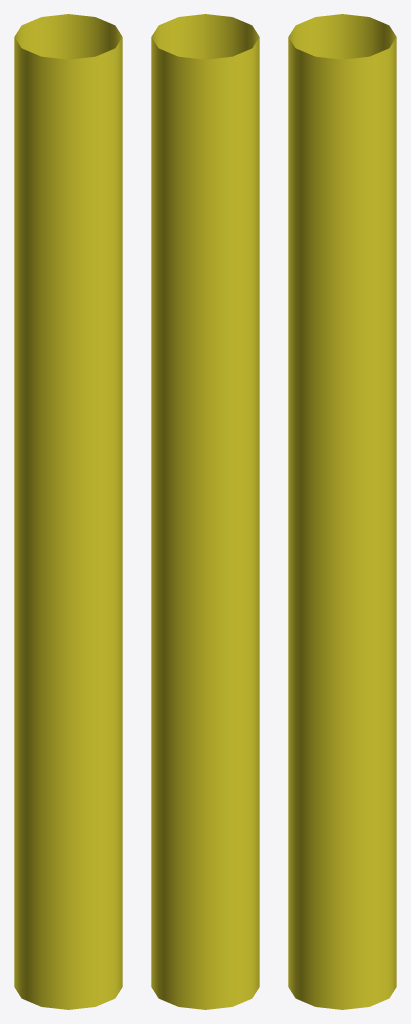
File: Fence.fbx
The picture shows the model from 3 angles, left to right: view 1: azimuth 30°, elevation 25°; view 2: azimuth 150°, elevation 25°; view 3: azimuth 330°, elevation 25°; orthographic projection.
Parts seen in each view (by area): view 1: Fence; view 2: Fence; view 3: Fence.
Part boxes in pixels (x1,y1,x2,y2): Fence: (14, 14, 122, 1009); Fence: (151, 14, 259, 1009); Fence: (288, 14, 396, 1009).
Size of the model in its own units: 26.63 by 258 by 26.63.
